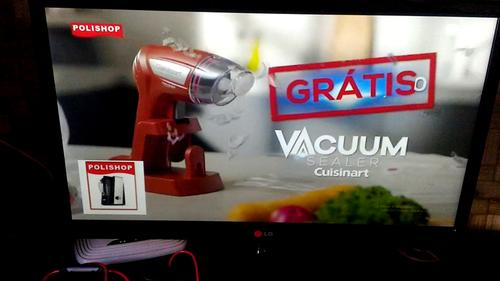Polishop #1: (77, 160, 147, 215)
